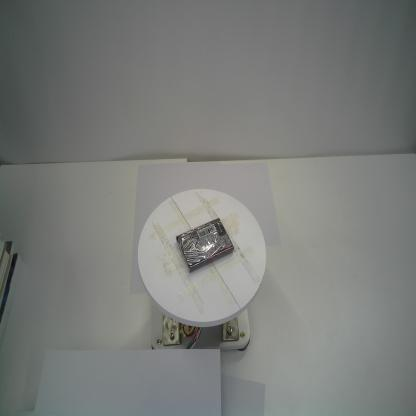Gum: (175, 216, 235, 274)
